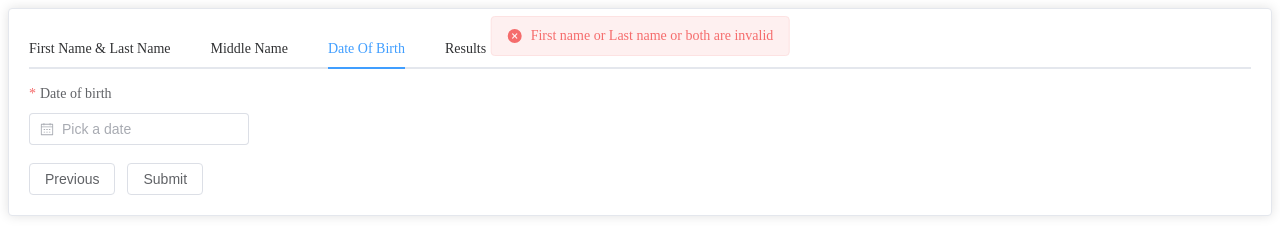
Test case: FormStepper › validates third step
This screenshot has width=1280, height=235.
Expected: the text with id "next-btn" reads "Submit", left=143, top=171, right=187, bottom=187
Click the button with id "next-btn": click(166, 179) left=128, top=163, right=204, bottom=195
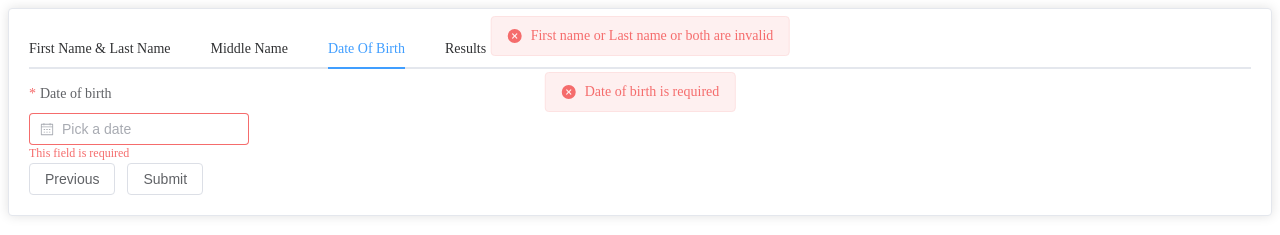
Expected: the text "This field is required" is shown, left=29, top=145, right=129, bottom=159
Expected: the text "Date of birth is required" is shown, left=585, top=85, right=719, bottom=99
